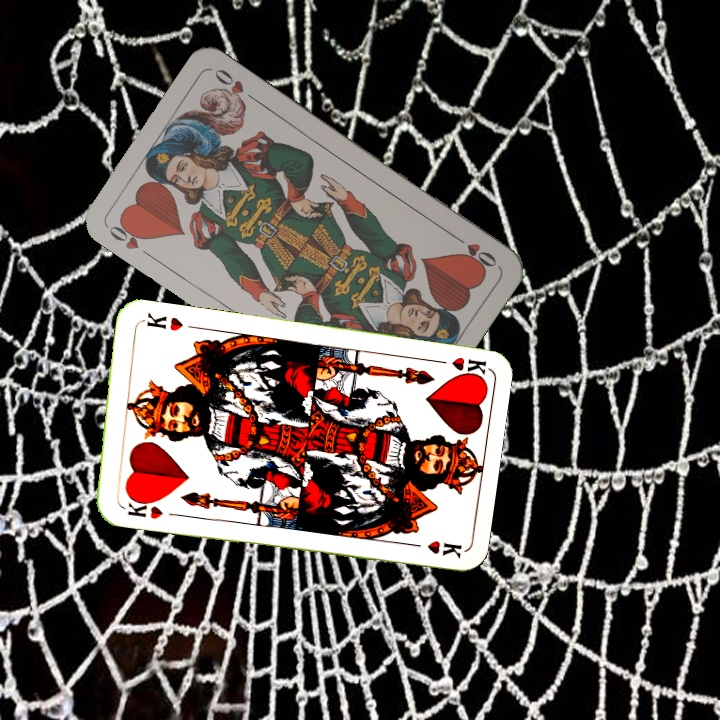HK: (428, 353, 488, 381), (115, 492, 166, 522)
HO: (104, 216, 155, 261), (448, 230, 500, 271)
